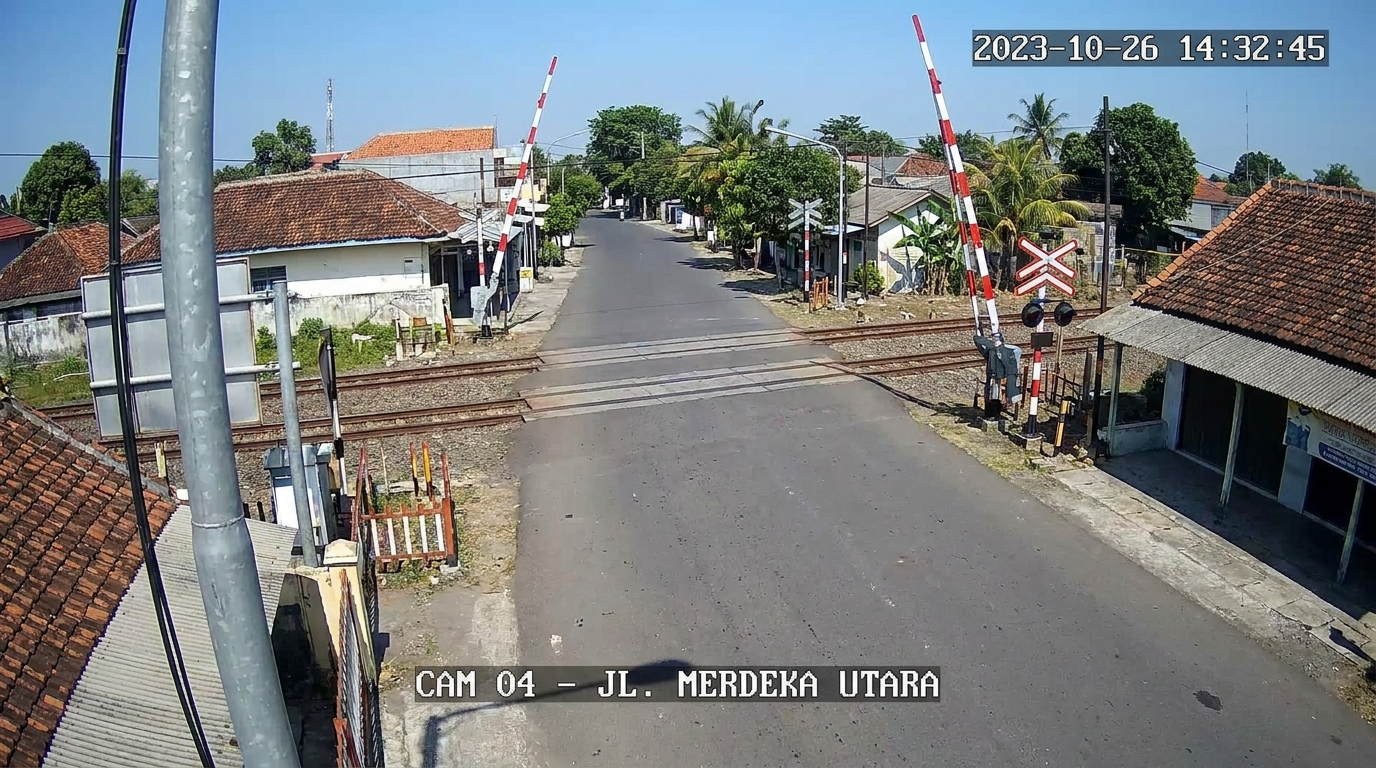safe: (913, 15, 1005, 346), (491, 56, 556, 280), (473, 289, 490, 330)
